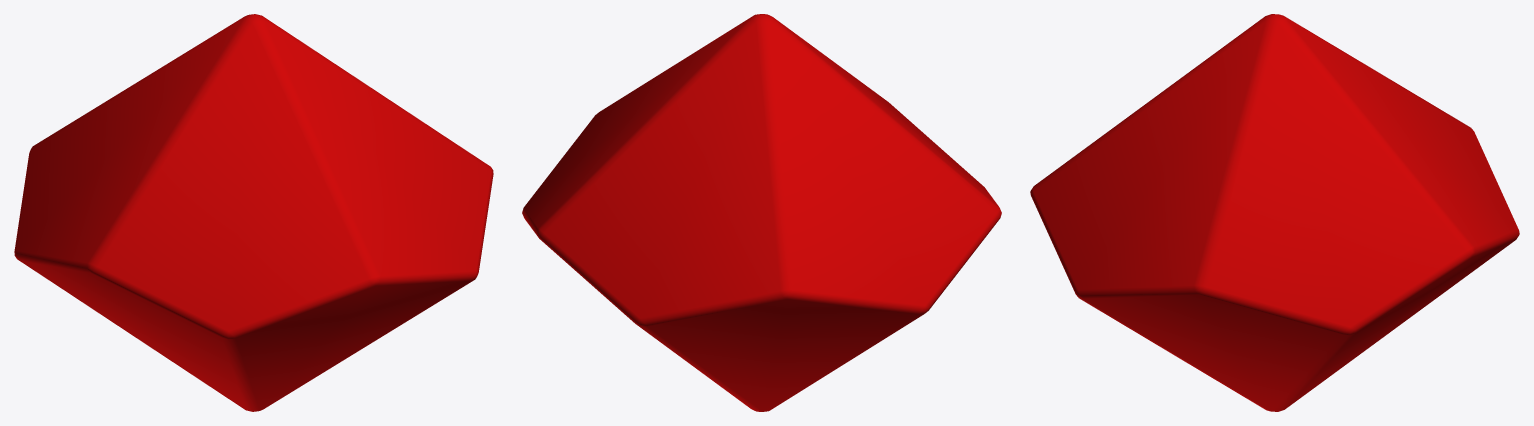
3 renders of one model, left to right at view 1: azimuth 30°, elevation 25°; view 2: azimuth 150°, elevation 25°; view 3: azimuth 270°, elevation 25°, orthographic.
Parts seen in each view (by area): view 1: 10Silver; view 2: 10Silver; view 3: 10Silver.
Boxes of the visible parts, <box> form: 10Silver: <box>14,14,493,411</box>; 10Silver: <box>522,14,1001,411</box>; 10Silver: <box>1030,14,1519,411</box>.
Bounding box in the file's own units: 1.51 × 1.41 × 1.58.
